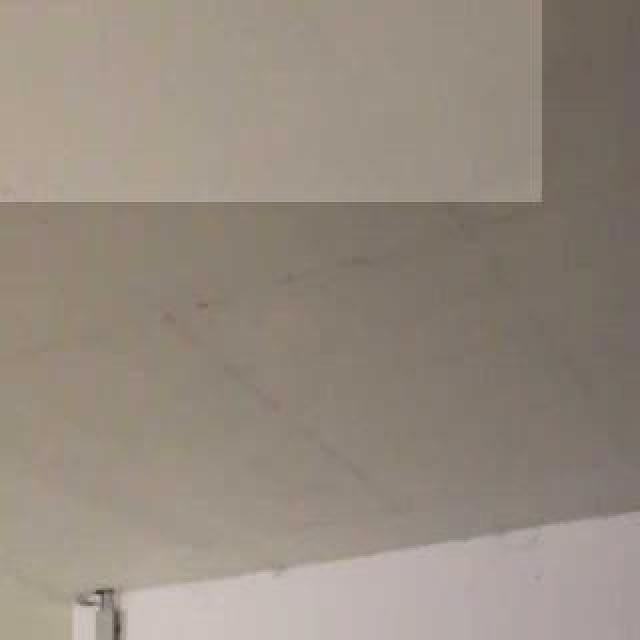fluorescent tube: (0, 0, 540, 176)
